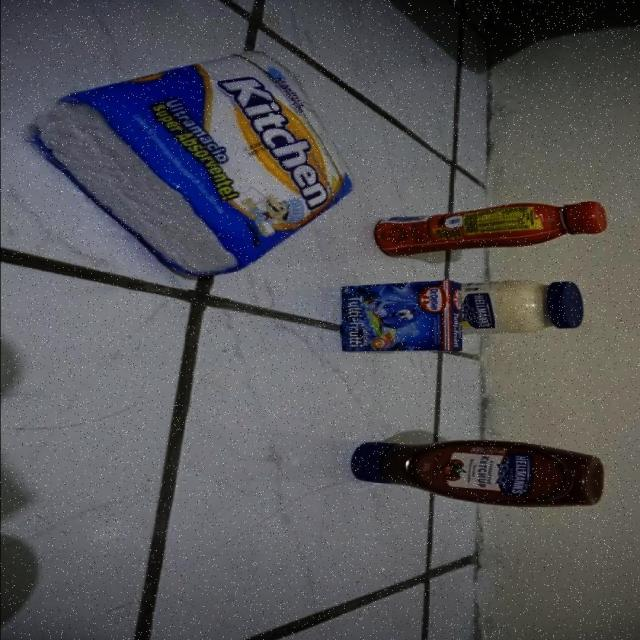ChocolateMilk: (375, 200, 608, 258)
Gelatine: (342, 280, 462, 354)
Ketchup: (349, 439, 606, 510)
Mayonnaise: (462, 282, 583, 334)
Napkin: (29, 49, 356, 280)
